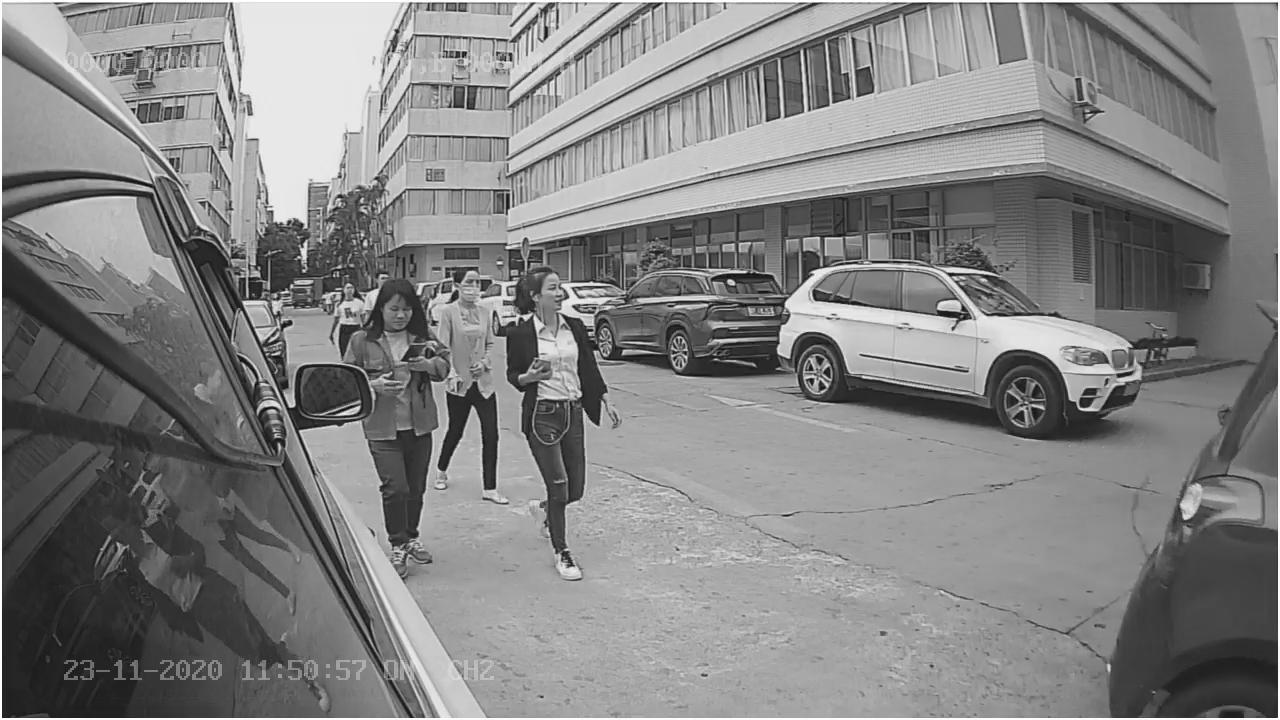person: (503, 263, 633, 578)
